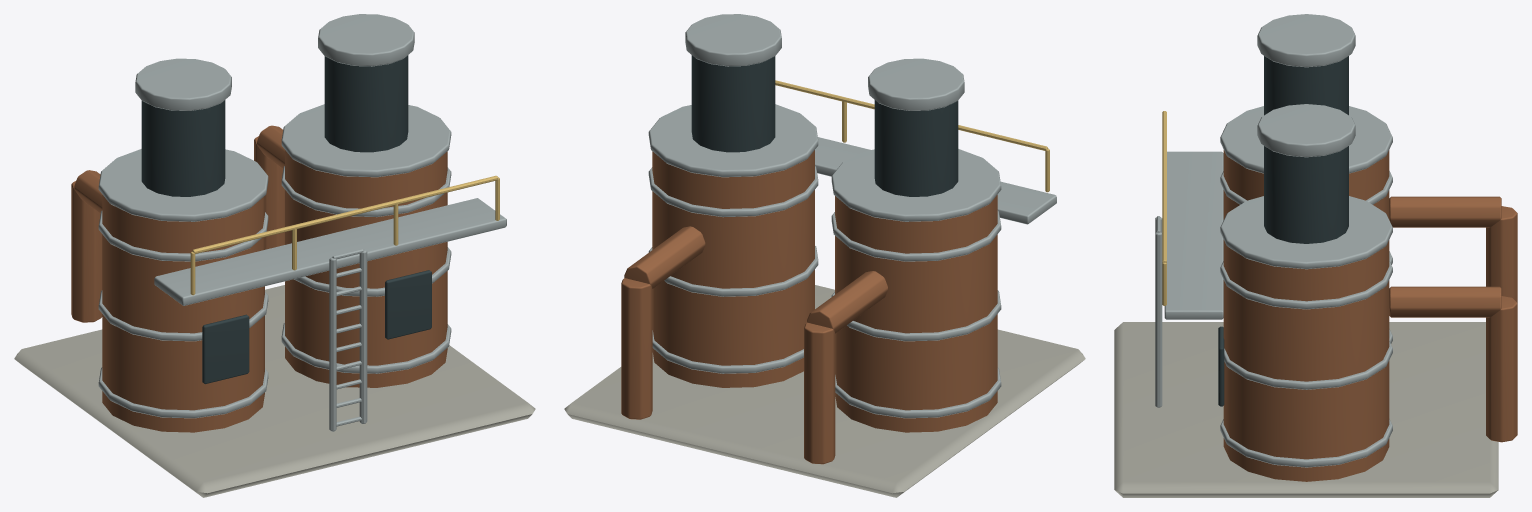
The model's file is FurnaceBlock.glb.
3 renders of one model, left to right at view 1: azimuth 30°, elevation 25°; view 2: azimuth 150°, elevation 25°; view 3: azimuth 270°, elevation 25°, orthographic.
Parts seen in each view (by area): view 1: Furnace apron, Smelter shell, Smelter shell.001, Catwalk, Chimney.001, Chimney, Steel retaining band.007, Steel retaining band.003, Stack collar.001, Stack collar, Heat pipe drop, Service hatch (+13 smaller); view 2: Smelter shell, Smelter shell.001, Furnace apron, Chimney.001, Chimney, Steel retaining band.007, Steel retaining band.003, Heat pipe drop.001, Heat pipe drop, Stack collar.001, Stack collar, Catwalk (+9 smaller); view 3: Furnace apron, Smelter shell.001, Catwalk, Chimney.001, Steel retaining band.007, Heat pipe drop.001, Stack collar, Stack collar.001, Steel retaining band.003, Chimney, Heat pipe.001, Heat pipe (+9 smaller).
Part boxes in pixels (x1=…): Furnace apron: x1=14, y1=285, x2=535, y2=497; Smelter shell: x1=102, y1=195, x2=264, y2=432; Smelter shell.001: x1=285, y1=150, x2=447, y2=387; Catwalk: x1=154, y1=198, x2=506, y2=305; Chimney.001: x1=324, y1=55, x2=408, y2=152; Chimney: x1=141, y1=100, x2=225, y2=196; Steel retaining band.007: x1=281, y1=104, x2=451, y2=177; Steel retaining band.003: x1=98, y1=149, x2=268, y2=221; Stack collar.001: x1=318, y1=14, x2=414, y2=66; Stack collar: x1=135, y1=58, x2=231, y2=110; Heat pipe drop: x1=71, y1=181, x2=102, y2=322; Service hatch: x1=202, y1=314, x2=249, y2=384; Smelter shell: x1=835, y1=195, x2=997, y2=432; Smelter shell.001: x1=652, y1=150, x2=814, y2=387; Furnace apron: x1=564, y1=285, x2=1085, y2=497; Chimney.001: x1=691, y1=55, x2=775, y2=152; Chimney: x1=874, y1=100, x2=958, y2=196; Steel retaining band.007: x1=648, y1=104, x2=818, y2=177; Steel retaining band.003: x1=831, y1=149, x2=1001, y2=221; Heat pipe drop.001: x1=621, y1=278, x2=652, y2=419; Heat pipe drop: x1=804, y1=322, x2=835, y2=464; Stack collar.001: x1=685, y1=14, x2=781, y2=66; Stack collar: x1=868, y1=58, x2=964, y2=110; Catwalk: x1=815, y1=137, x2=1056, y2=224; Furnace apron: x1=1114, y1=322, x2=1498, y2=497; Smelter shell.001: x1=1223, y1=240, x2=1389, y2=481; Catwalk: x1=1164, y1=151, x2=1223, y2=319; Chimney.001: x1=1264, y1=146, x2=1348, y2=243; Steel retaining band.007: x1=1220, y1=196, x2=1392, y2=269; Heat pipe drop.001: x1=1486, y1=296, x2=1517, y2=442; Stack collar: x1=1257, y1=14, x2=1355, y2=67; Stack collar.001: x1=1257, y1=104, x2=1355, y2=157; Steel retaining band.003: x1=1220, y1=106, x2=1392, y2=173; Chimney: x1=1264, y1=56, x2=1348, y2=115; Heat pipe.001: x1=1389, y1=286, x2=1501, y2=317; Heat pipe: x1=1389, y1=196, x2=1501, y2=227.
Size of the model in its own units: 6.7 by 6.32 by 6.82.
